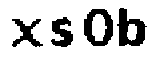0: (80, 6, 114, 47)
b: (117, 5, 149, 50)
s: (47, 17, 75, 49)
x: (7, 16, 43, 50)
